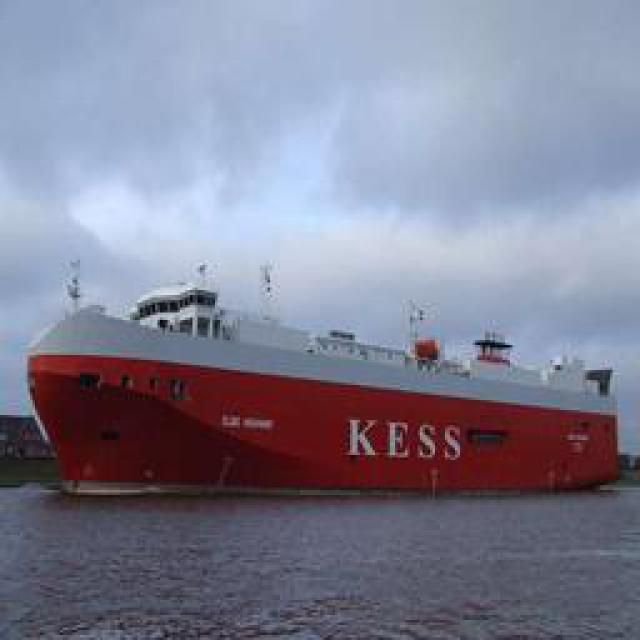Ship: (34, 281, 619, 494)
